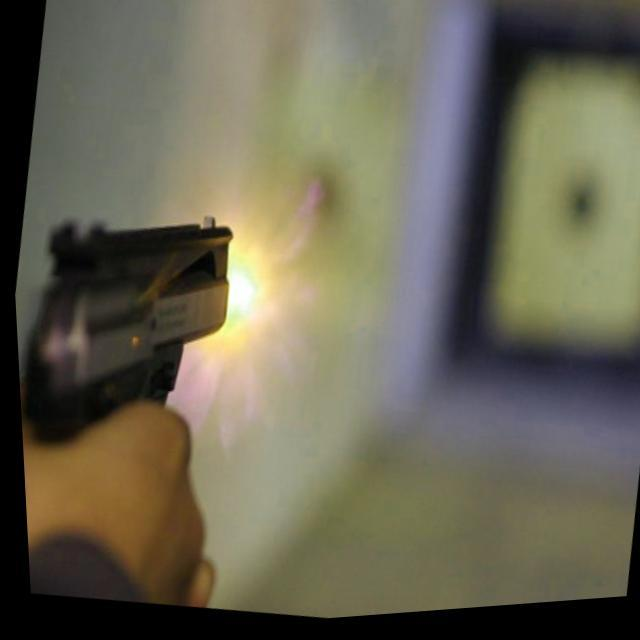weapon: (8, 187, 244, 470)
